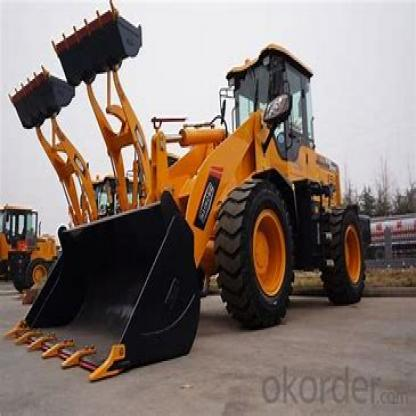bull_dozer/loader/grader: (17, 36, 367, 389)
